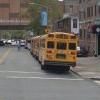buses: (39, 31, 79, 73)
